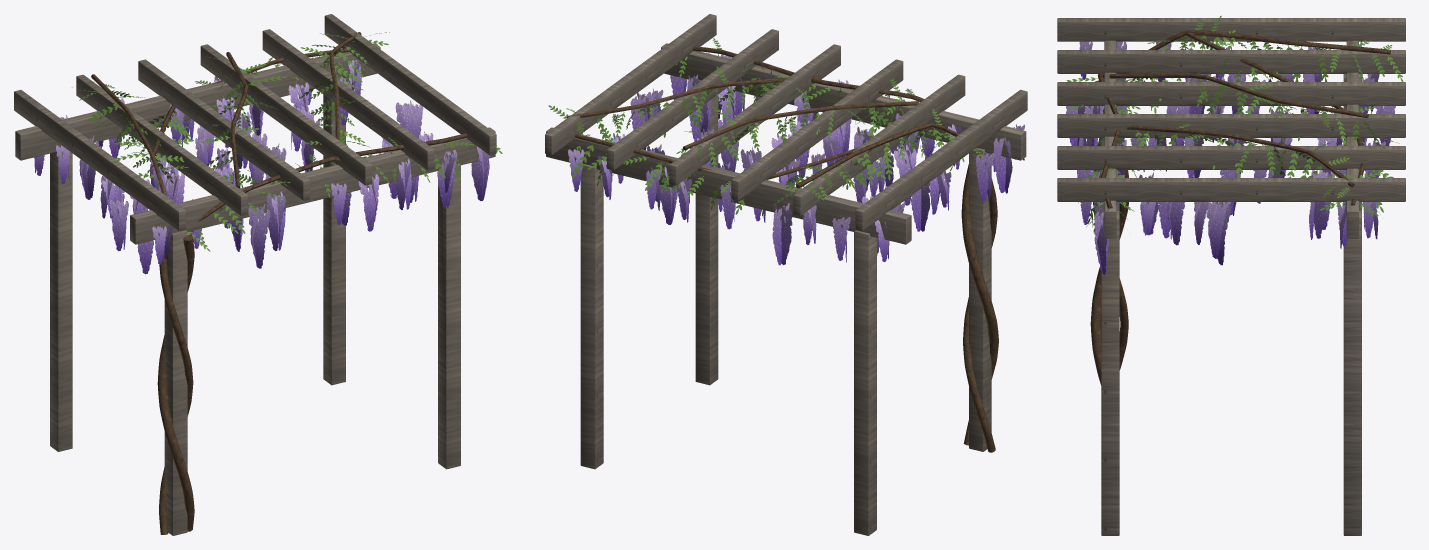
Rendered from wisteria-pergola.glb.
The picture shows the model from 3 angles, left to right: view 1: azimuth 30°, elevation 25°; view 2: azimuth 150°, elevation 25°; view 3: azimuth 270°, elevation 25°; orthographic projection. The views are drawn at different scales.
Parts seen in each view (by area): view 1: Wisteria_Pergola; view 2: Wisteria_Pergola; view 3: Wisteria_Pergola.
Boxes of the visible parts, bbox=[...] form: Wisteria_Pergola: bbox=[14, 14, 502, 535]; Wisteria_Pergola: bbox=[545, 14, 1027, 535]; Wisteria_Pergola: bbox=[1057, 15, 1405, 535].
Bounding box in the file's own units: 3.02 × 2.75 × 2.36.
Materials: 4 (4 with a texture image).
